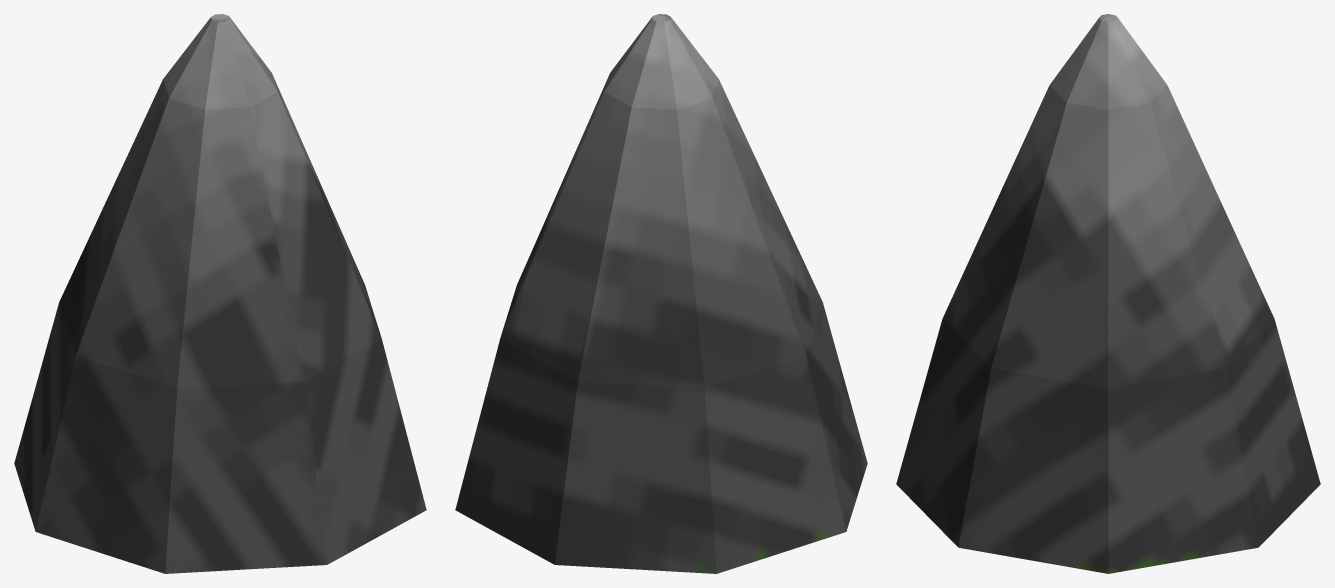
File: gora1.fbx
3 renders of one model, left to right at view 1: azimuth 30°, elevation 25°; view 2: azimuth 150°, elevation 25°; view 3: azimuth 270°, elevation 25°, orthographic.
Visible parts, largest first — view 1: Cylinder.003; view 2: Cylinder.003; view 3: Cylinder.003.
Boxes of the visible parts, <box> form: Cylinder.003: <box>14,14,426,573</box>; Cylinder.003: <box>455,14,867,573</box>; Cylinder.003: <box>896,14,1320,573</box>.
Bounding box in the file's own units: 2912 × 3528 × 2912.
